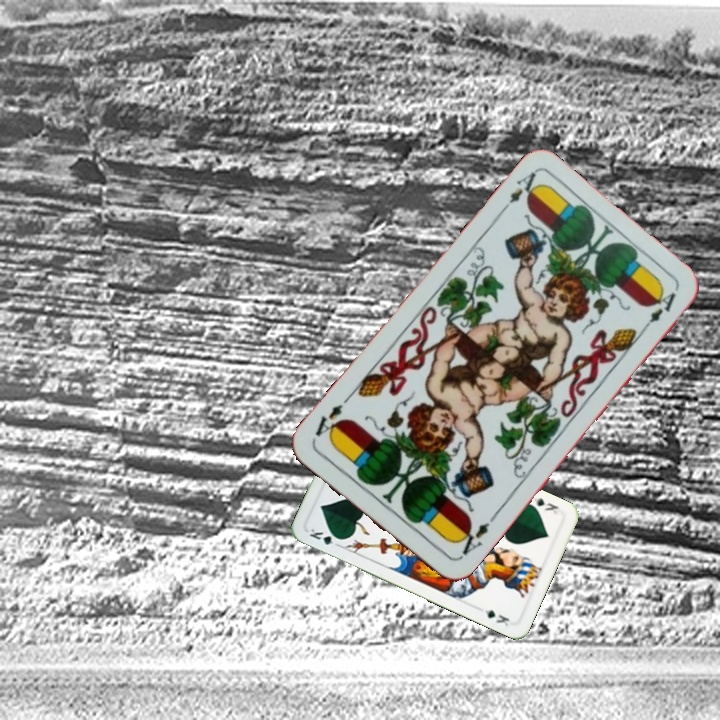EA: (494, 168, 544, 218), (451, 512, 498, 562)
GK: (305, 524, 345, 550), (529, 492, 561, 517)
